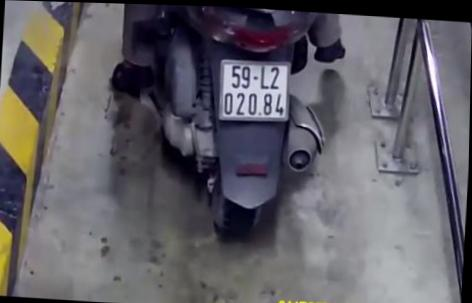LP: (216, 54, 293, 123)
